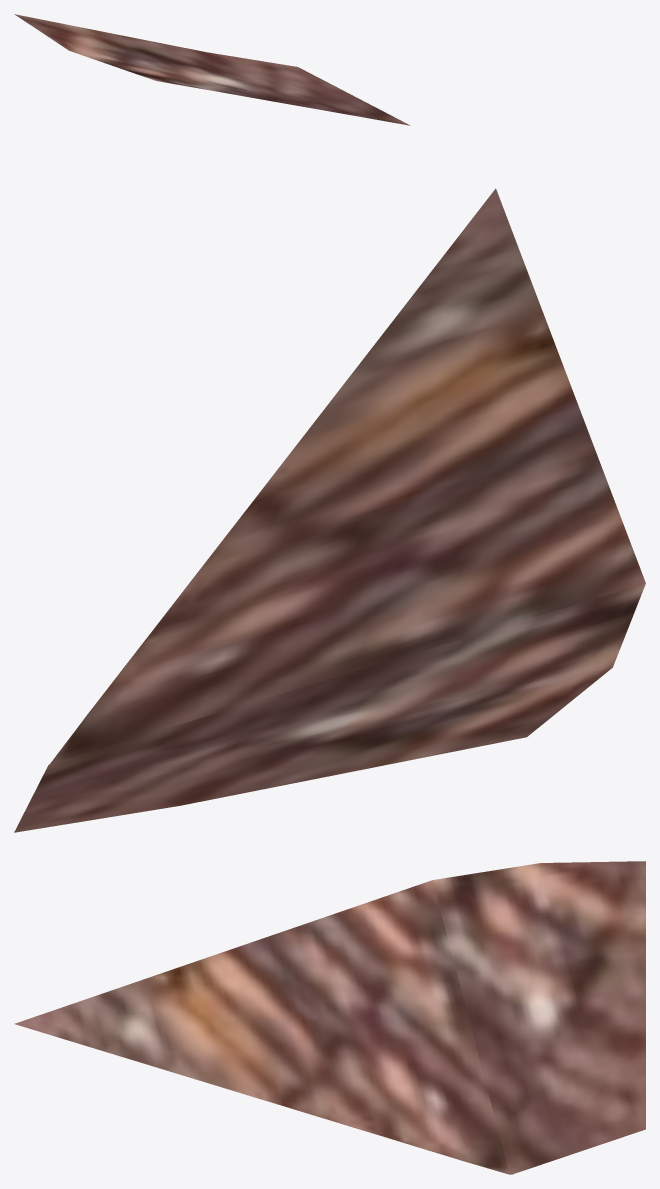
3 views of the same model, one above another, from view 1: azimuth 30°, elevation 25°; view 2: azimuth 150°, elevation 25°; view 3: azimuth 270°, elevation 25° (orthographic). The views are drawn at different scales.
Bounding box in the file's own units: 0.874 × 0.3636 × 1.41.
Materials: 1 (1 with a texture image).
